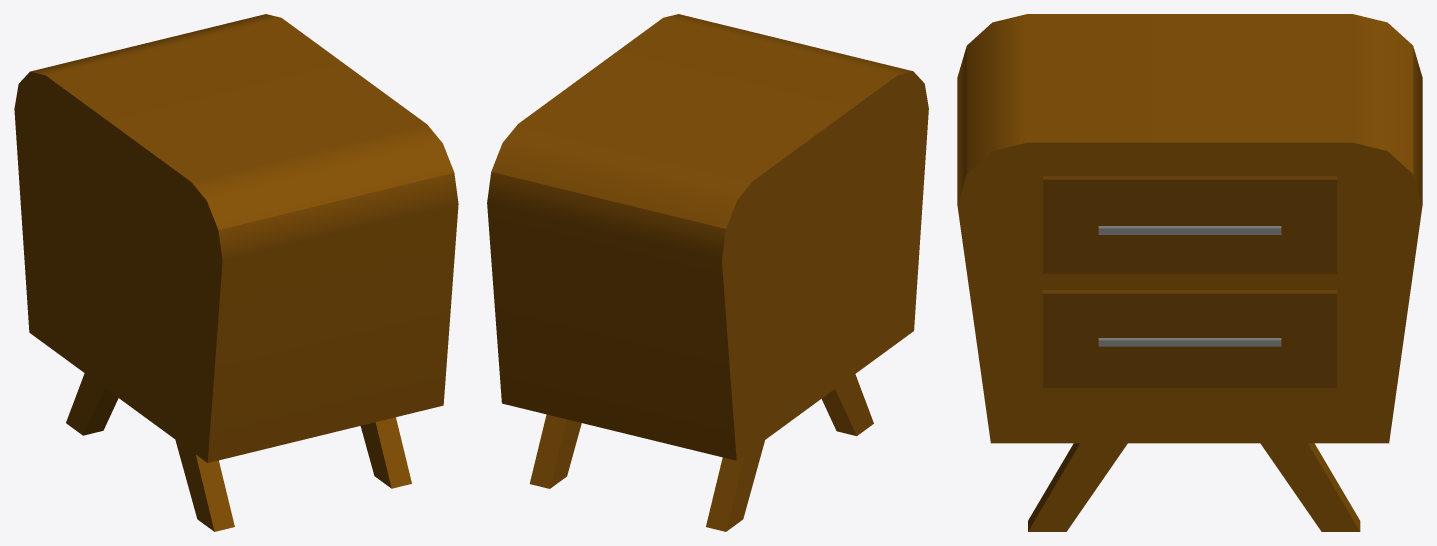
The model's file is Nightstand.obj.
The picture shows the model from 3 angles, left to right: view 1: azimuth 30°, elevation 25°; view 2: azimuth 150°, elevation 25°; view 3: azimuth 270°, elevation 25°; orthographic projection. The views are drawn at different scales.
Parts seen in each view (by area): view 1: Nightstand1; view 2: Nightstand1; view 3: Nightstand1.
Boxes of the visible parts, x1,y1,x2,y2 form: Nightstand1: (14,14,458,531); Nightstand1: (487,14,928,531); Nightstand1: (957,14,1422,531).
Bounding box in the file's own units: 55.56 × 76.67 × 81.28.
